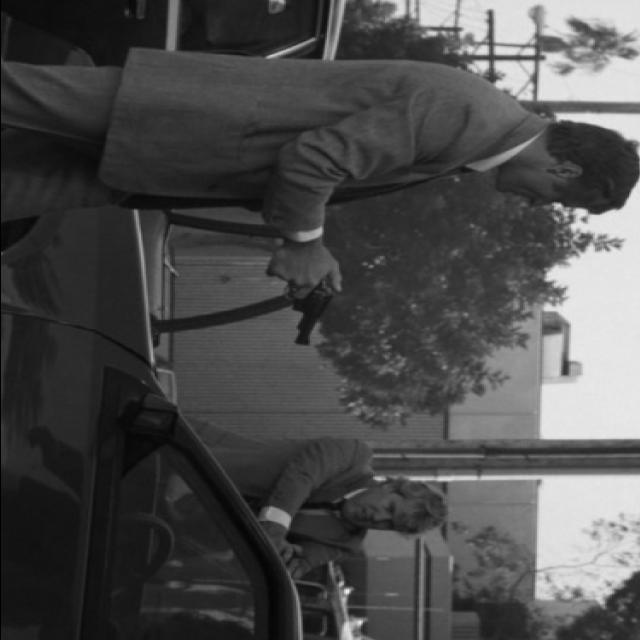weapons: (236, 245, 356, 356)
